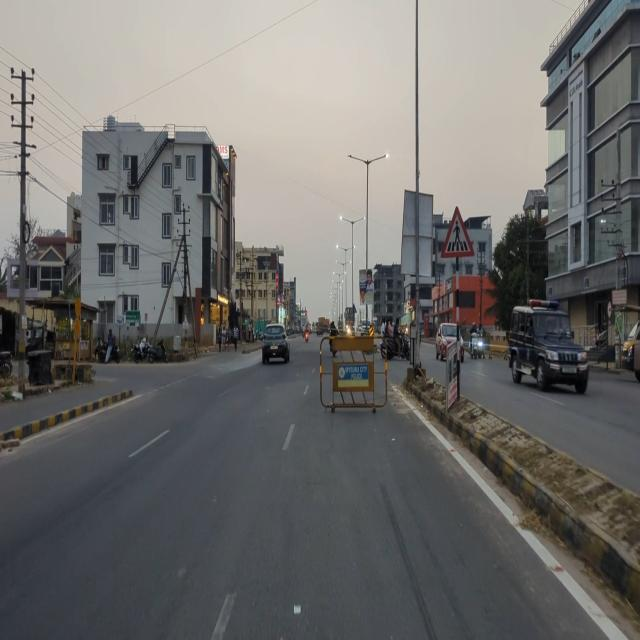bien_cam: (440, 206, 477, 258)
